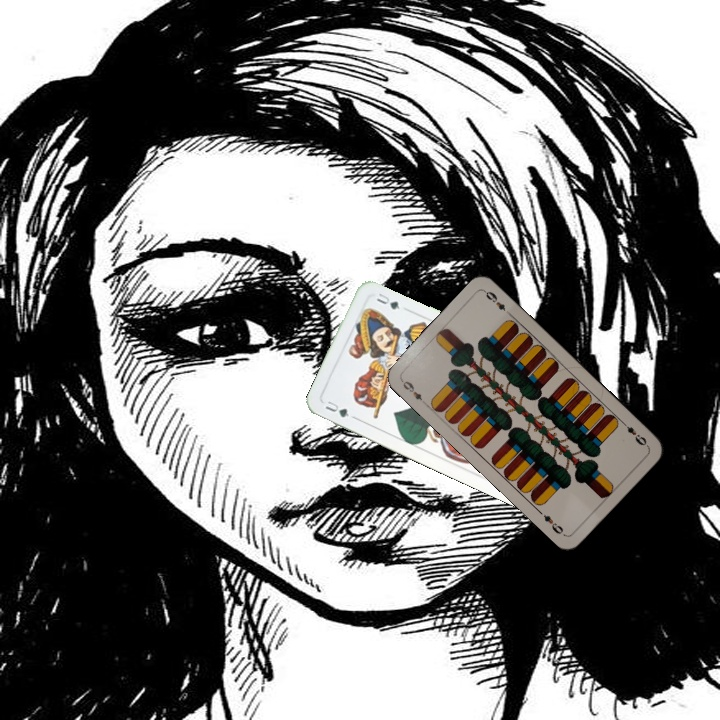E9: (397, 376, 429, 408), (618, 417, 649, 448)
GU: (321, 395, 352, 420)
